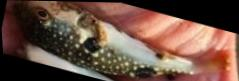fish: (16, 0, 194, 77)
